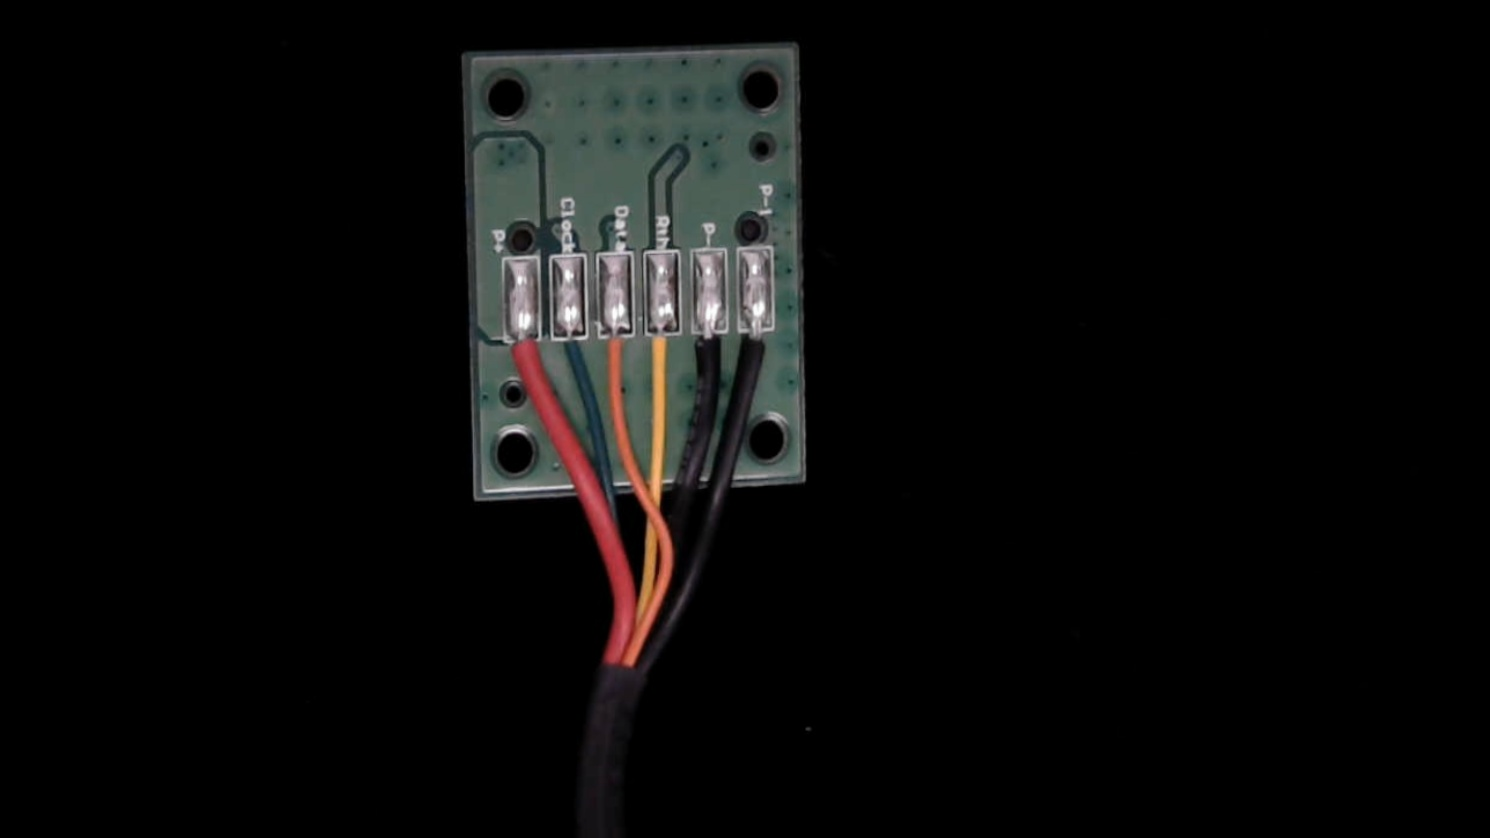Black: (687, 314, 731, 401)
Black1: (738, 310, 778, 400)
Green: (553, 316, 587, 395)
Orange: (597, 317, 634, 399)
Red: (502, 321, 543, 400)
Yellow: (643, 314, 682, 403)
